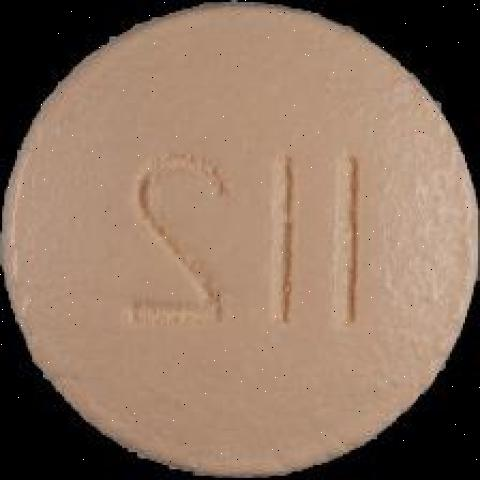Pill: (0, 0, 474, 480)
